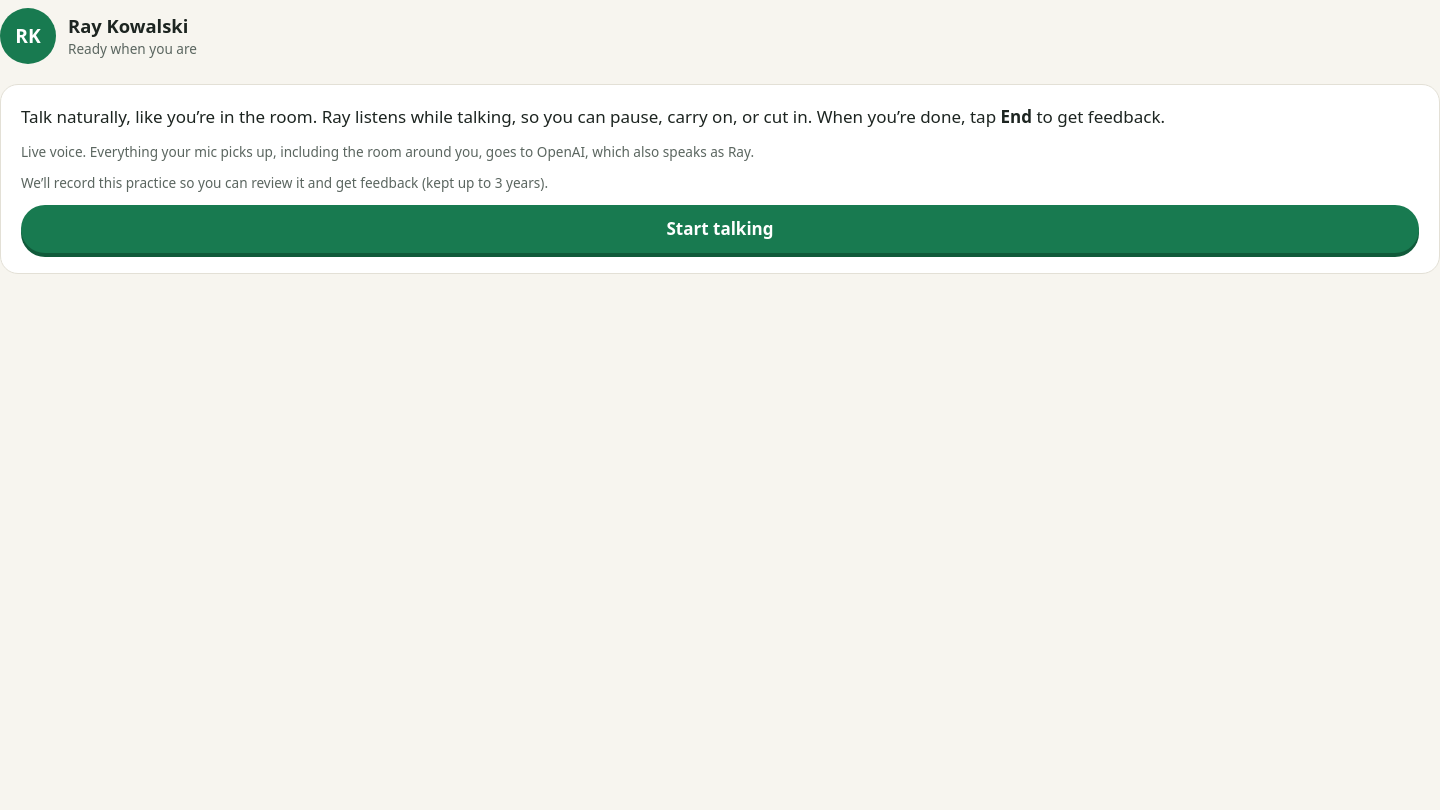
GPT-Live conversation › adds words that arrive after the reply was asked for to that same turn, not the next
Click the button "Start talking" at (720,229), box [21,205,1419,253]
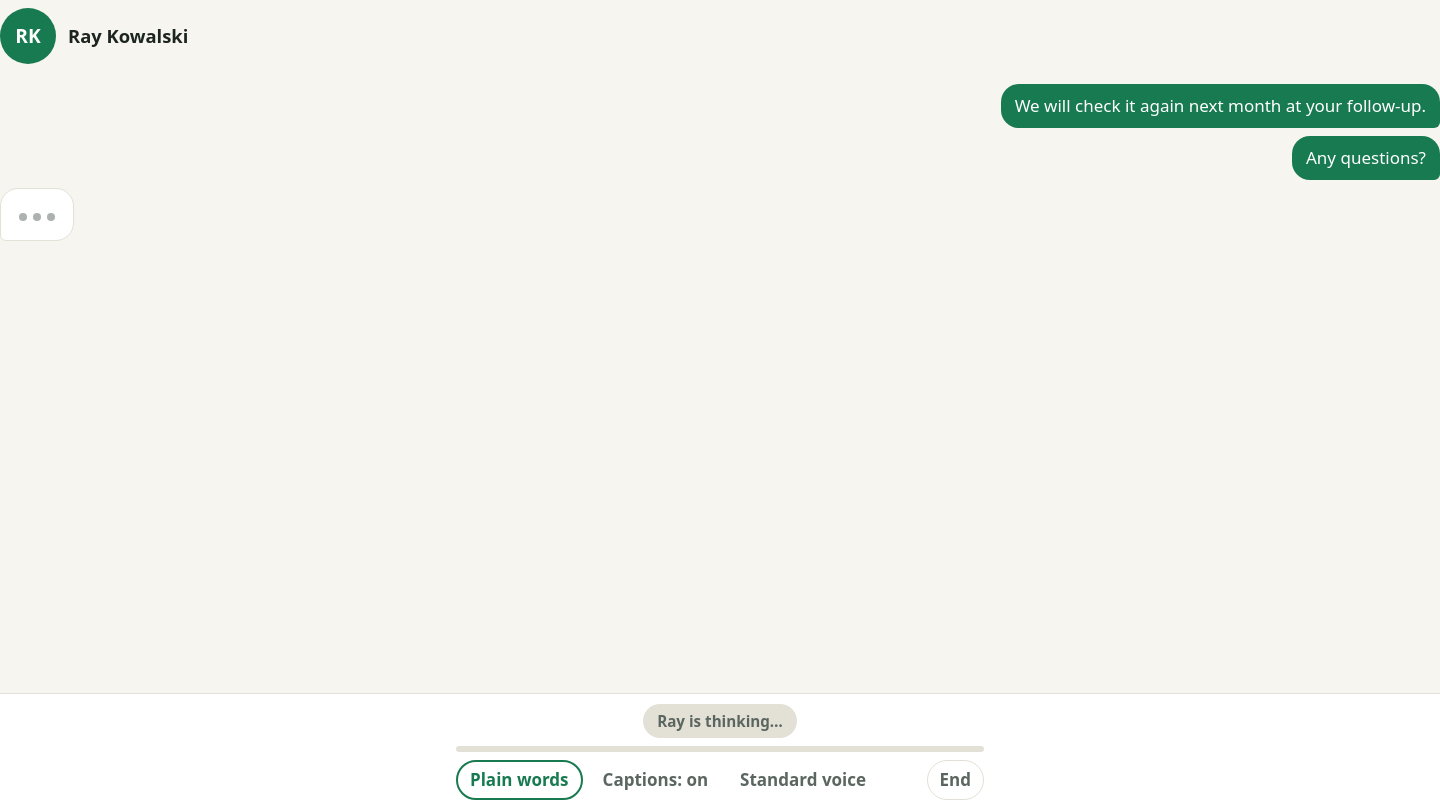
Check: the text "We will check it again next month at your follow-up." is shown, box [1001,84,1439,128]
Check: the text "Any questions?" is shown, box [1292,136,1439,180]
